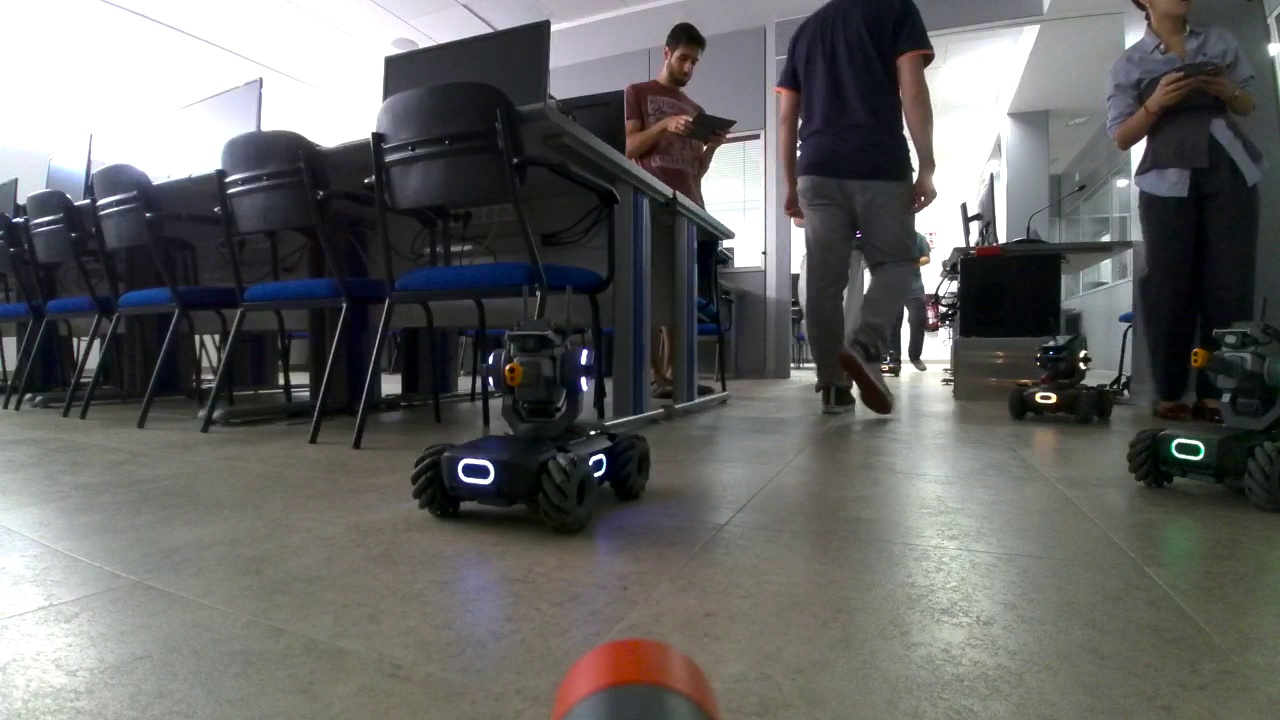robot: (409, 283, 651, 535), (1129, 298, 1280, 509), (1009, 331, 1115, 419), (873, 348, 900, 377)
